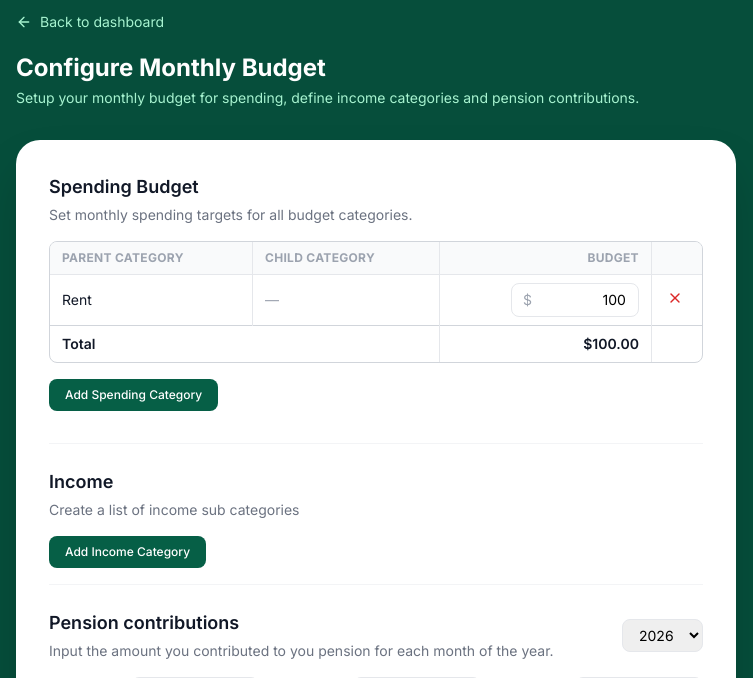
Test: BudgetSetupPage › deleting a childless row removes it entirely
Expected: the text "Rent" is shown, [50,274,252,326]
Click the button named "delete rent" at x=675, y=298, box [667,290,683,306]
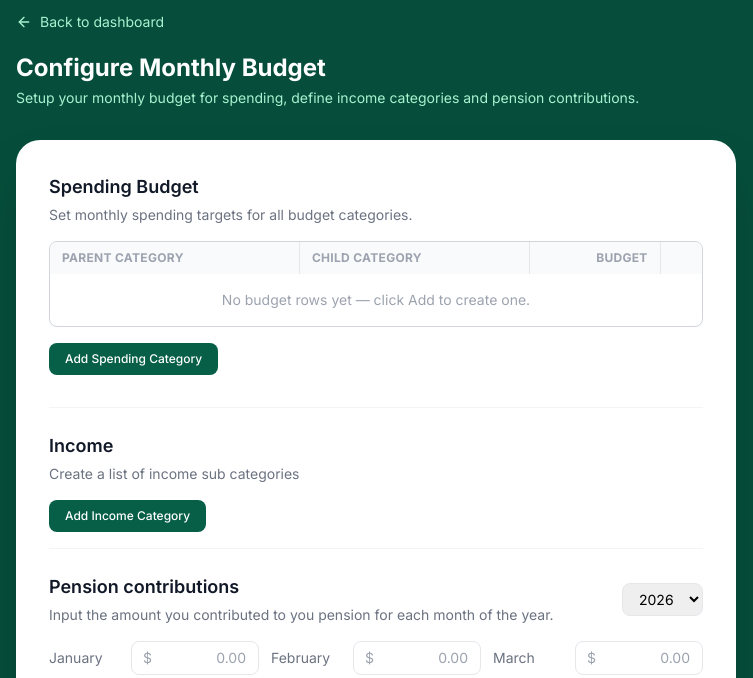
Now the text "No budget rows yet — click Add to create one." is shown, box [50,274,702,326]
